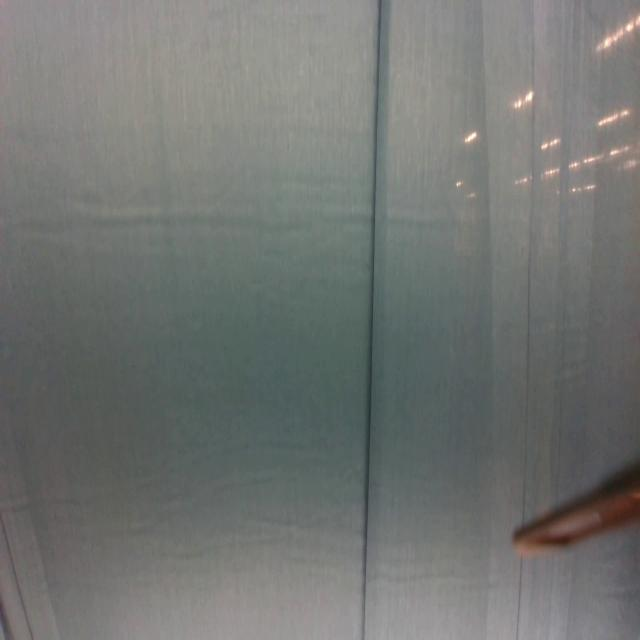crease: (479, 0, 577, 494), (359, 0, 393, 638), (487, 556, 568, 640), (0, 502, 39, 640)
